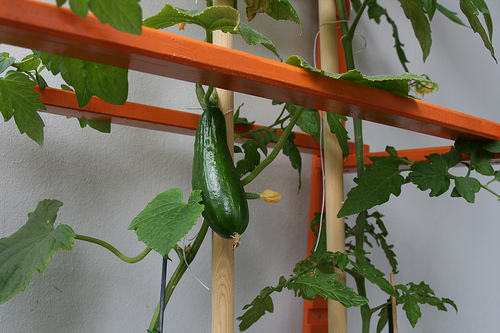cucumber: (198, 106, 251, 250)
